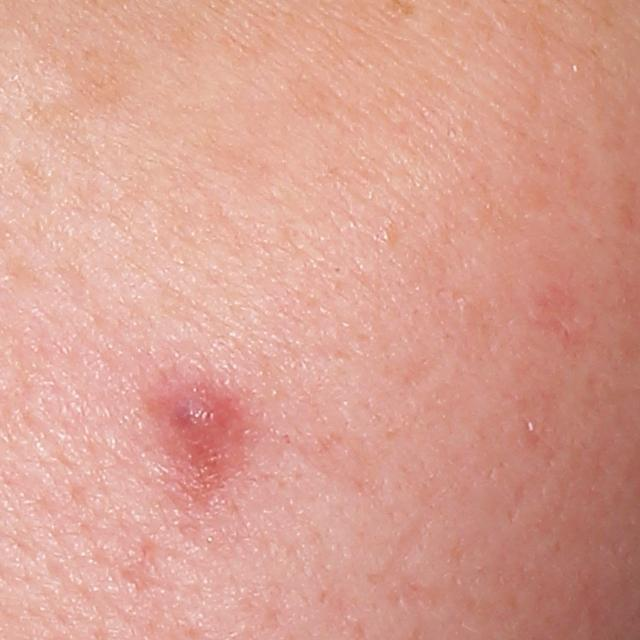melasma: (58, 35, 148, 111)
papule: (162, 389, 232, 448)
